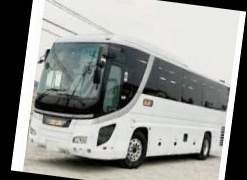bus: (29, 26, 232, 179)
